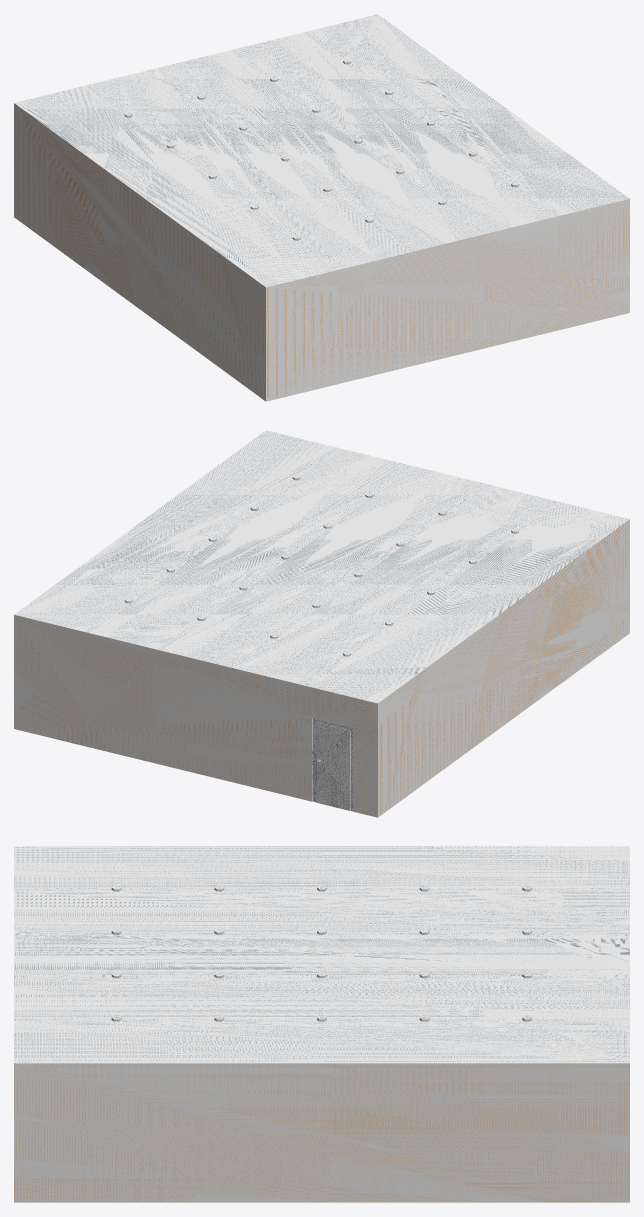
Rendered from Room.obj.
3 views of the same model, one above another, from view 1: azimuth 30°, elevation 25°; view 2: azimuth 150°, elevation 25°; view 3: azimuth 270°, elevation 25° (orthographic). The views are drawn at different scales.
Parts seen in each view (by area): view 1: Mesh1 Component_1_1 Model; view 2: Mesh1 Component_1_1 Model; view 3: Mesh1 Component_1_1 Model.
Boxes of the visible parts, <box> form: Mesh1 Component_1_1 Model: <box>14,14,629,401</box>; Mesh1 Component_1_1 Model: <box>14,430,629,817</box>; Mesh1 Component_1_1 Model: <box>14,846,629,1202</box>.
Bounding box in the file's own units: 10 × 3.05 × 12.
